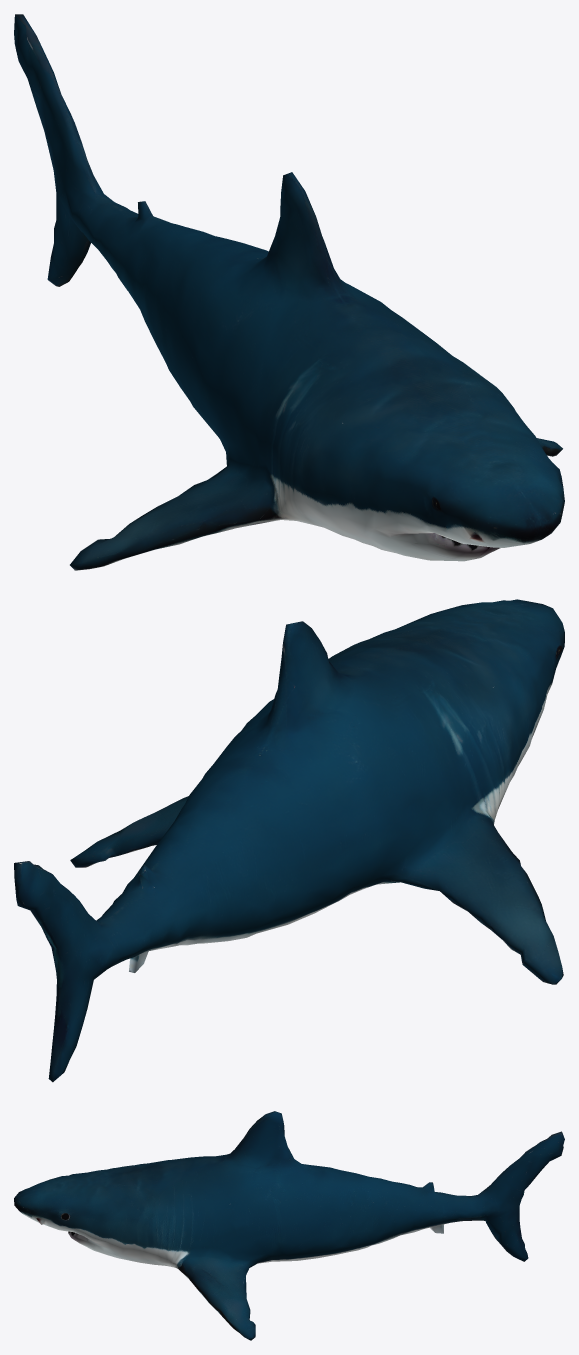
Rendered from shark.obj.
3 views of the same model, one above another, from view 1: azimuth 30°, elevation 25°; view 2: azimuth 150°, elevation 25°; view 3: azimuth 270°, elevation 25° (orthographic). The views are drawn at different scales.
Parts seen in each view (by area): view 1: Meshy_AI_a_great_white_shark_w_0420025804_texture; view 2: Meshy_AI_a_great_white_shark_w_0420025804_texture; view 3: Meshy_AI_a_great_white_shark_w_0420025804_texture.
Boxes of the visible parts, x1,y1,x2,y2 form: Meshy_AI_a_great_white_shark_w_0420025804_texture: [14, 14, 564, 570]; Meshy_AI_a_great_white_shark_w_0420025804_texture: [14, 599, 564, 1082]; Meshy_AI_a_great_white_shark_w_0420025804_texture: [14, 1111, 564, 1340].
Bounding box in the file's own units: 1.03 × 0.6432 × 1.92.
